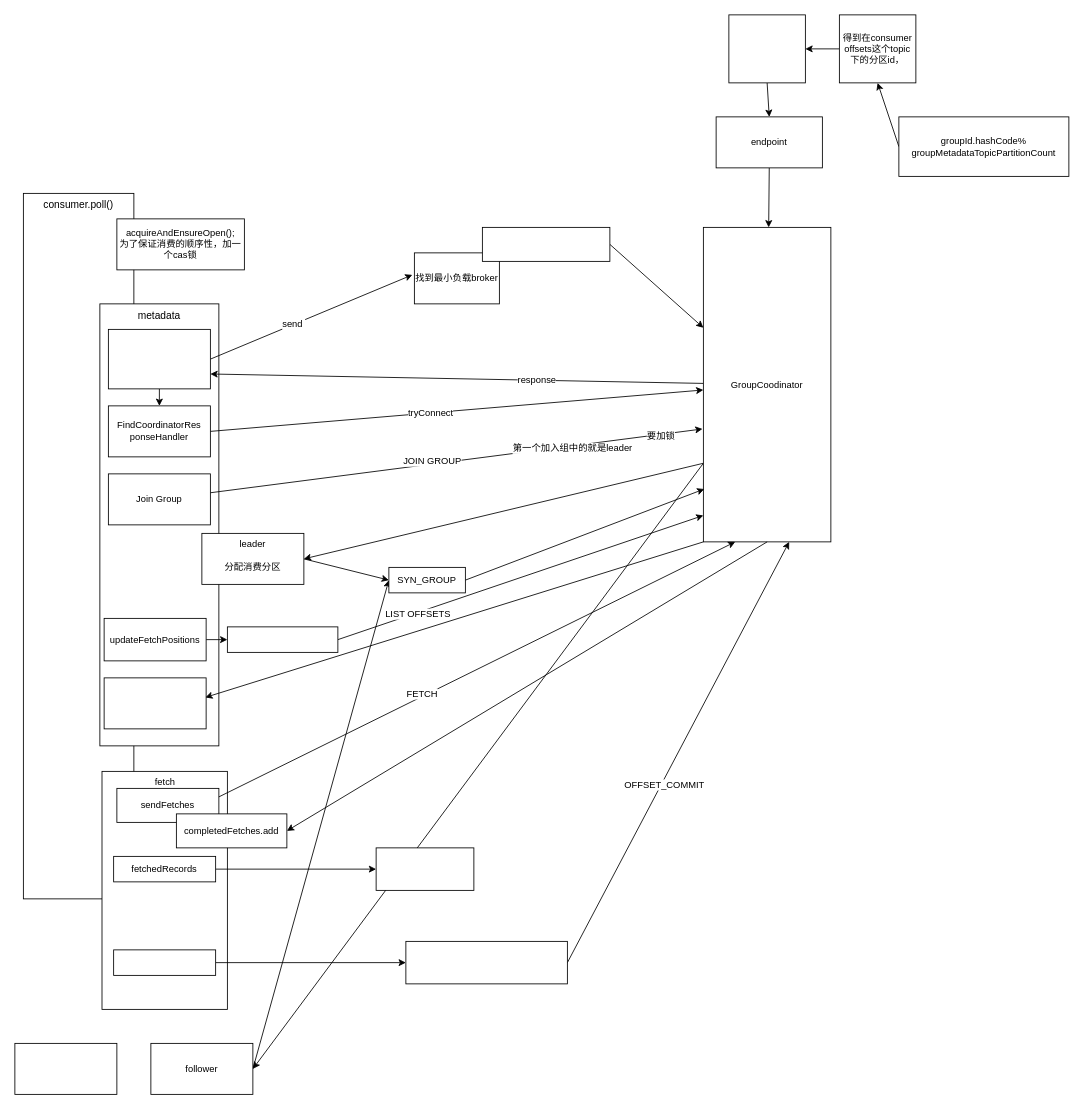
Image size: 1084x1109. Some labels were removed from this diagram. Here are the shapes that lost their labels. From the top down, the centre of each, then its label:
[766,48]: broker leader
[546,244]: FIND_COORDINATOR
[159,359]: lookupCoordinator
[282,639]: sendListOffsetRequest
[154,703]: subscriptions.seek (partition,offsetData.offset);
[424,868]: 返回记录，并维护下一条要消费的offset
[164,962]: submit offset
[486,962]: sendOffsetCommitRequest
[65,1068]: consumer
